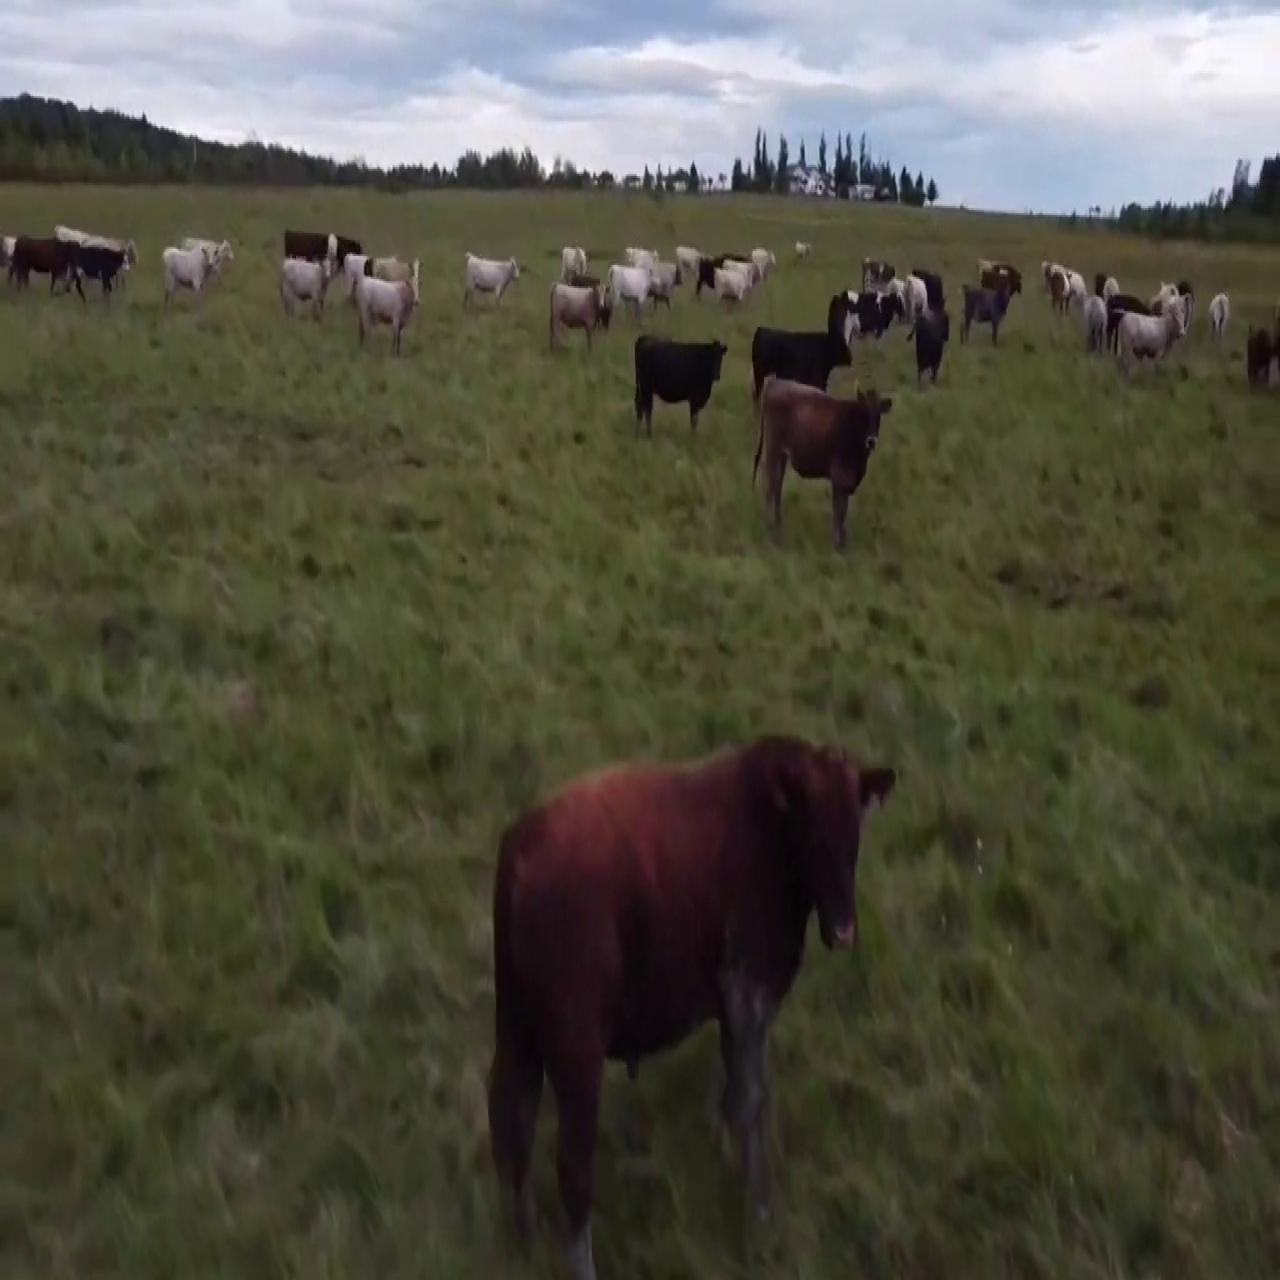cow: (455, 716, 896, 1269), (750, 374, 896, 544), (631, 331, 730, 447), (747, 321, 855, 411), (50, 230, 143, 313), (352, 266, 424, 369), (1110, 300, 1186, 381), (547, 279, 613, 360), (905, 290, 955, 390), (959, 281, 1021, 352), (161, 245, 220, 315), (462, 248, 523, 311), (605, 258, 654, 320), (177, 234, 238, 273), (713, 265, 753, 315), (558, 237, 587, 285)
